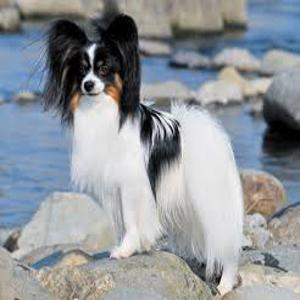yell: (43, 13, 242, 290)
